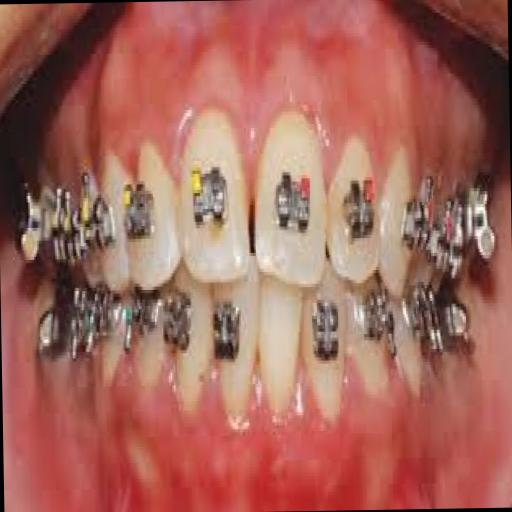correct_brace: (187, 154, 232, 240), (269, 164, 317, 240)
